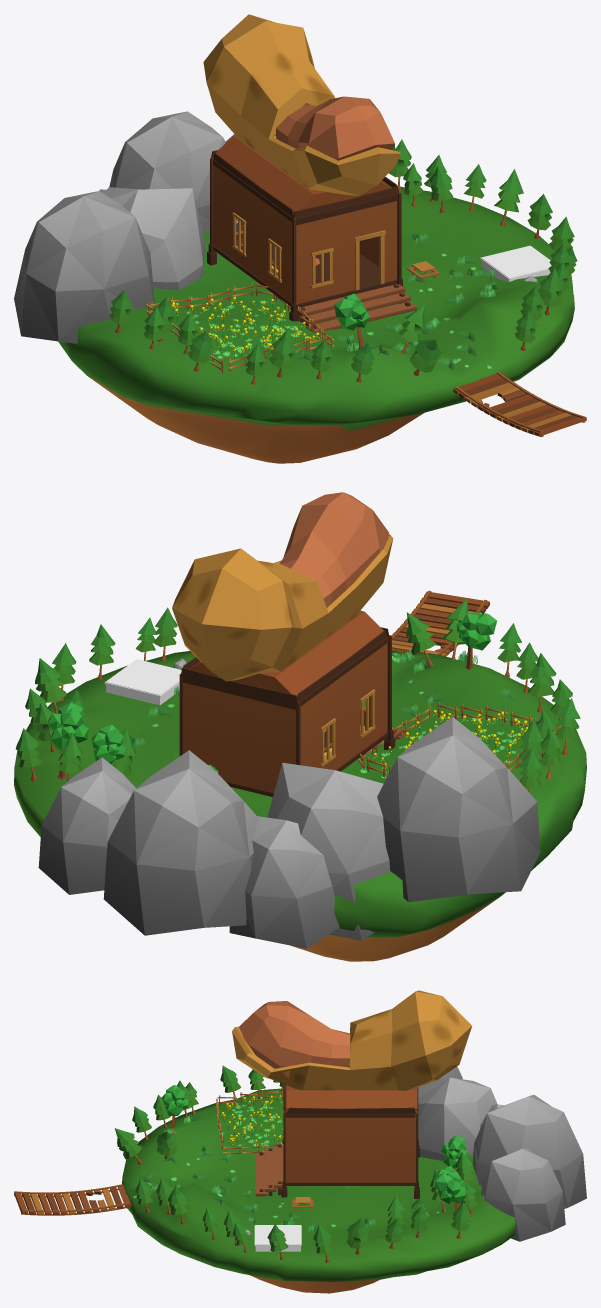
File: Area_04.fbx
3 renders of one model, top to bottom at view 1: azimuth 30°, elevation 25°; view 2: azimuth 150°, elevation 25°; view 3: azimuth 270°, elevation 25°, orthographic. The views are drawn at different scales.
Visible parts, largest first — view 1: Udo, Udo_House, Stone__1_, Tree, Stone__23_, Stone, Bridge, Statue__2_, Tree_01_Polybrush_Clone_; view 2: Udo_House, Udo, Stone__1_, Stone__23_, Tree, Stone, Stone__21_, Stone__30_, Bridge, Statue__2_, Tree_05_Polybrush_Clone_, Tree_04_Polybrush_Clone_ (+1 smaller); view 3: Udo, Udo_House, Tree, Stone__23_, Stone__30_, Stone, Bridge, Statue__2_, Tree_01_Polybrush_Clone_, Tree_04_Polybrush_Clone_.
Part boxes in pixels (x1,y1,x2,y2): Udo: [58, 186, 574, 463]; Udo_House: [203, 14, 416, 332]; Stone__1_: [14, 191, 154, 343]; Tree: [109, 139, 571, 382]; Stone__23_: [109, 111, 225, 231]; Stone: [104, 187, 204, 290]; Bridge: [453, 372, 586, 436]; Statue__2_: [480, 245, 551, 281]; Tree_01_Polybrush_Clone_: [527, 194, 552, 238]; Udo_House: [172, 492, 407, 796]; Udo: [14, 651, 586, 961]; Stone__1_: [377, 717, 540, 902]; Stone__23_: [103, 750, 258, 935]; Tree: [15, 599, 580, 792]; Stone: [267, 762, 390, 940]; Stone__21_: [229, 816, 339, 948]; Stone__30_: [38, 757, 135, 894]; Bridge: [392, 590, 489, 656]; Statue__2_: [104, 659, 181, 705]; Tree_05_Polybrush_Clone_: [91, 724, 125, 763]; Tree_04_Polybrush_Clone_: [89, 624, 115, 679]; Udo: [122, 1088, 515, 1293]; Udo_House: [232, 990, 471, 1198]; Tree: [114, 1065, 477, 1254]; Stone__23_: [472, 1094, 586, 1208]; Stone__30_: [481, 1147, 565, 1241]; Stone: [418, 1077, 497, 1160]; Bridge: [14, 1184, 131, 1215]; Statue__2_: [254, 1225, 301, 1251]; Tree_01_Polybrush_Clone_: [313, 1224, 333, 1262]; Tree_04_Polybrush_Clone_: [267, 1223, 288, 1259].
Bounding box in the file's own units: 3904 × 2962 × 5056.
Materials: 2 (2 with a texture image).
